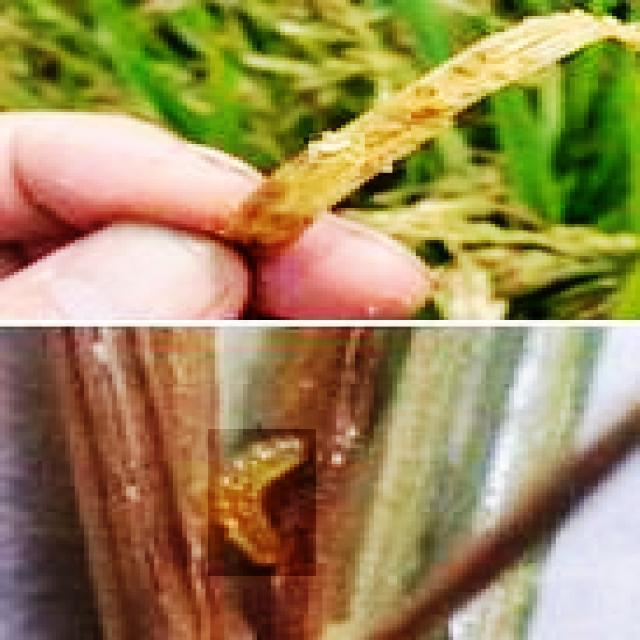whorl-maggot: (208, 429, 316, 576), (309, 133, 365, 163)
